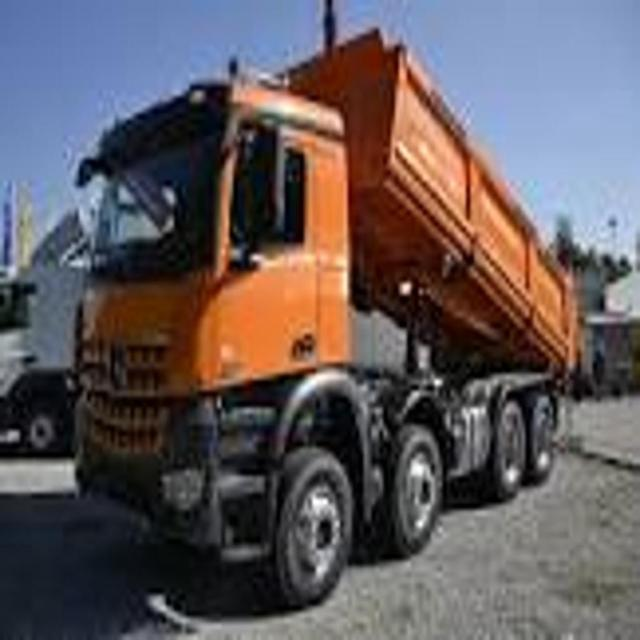dump_truck: (81, 0, 584, 595)
